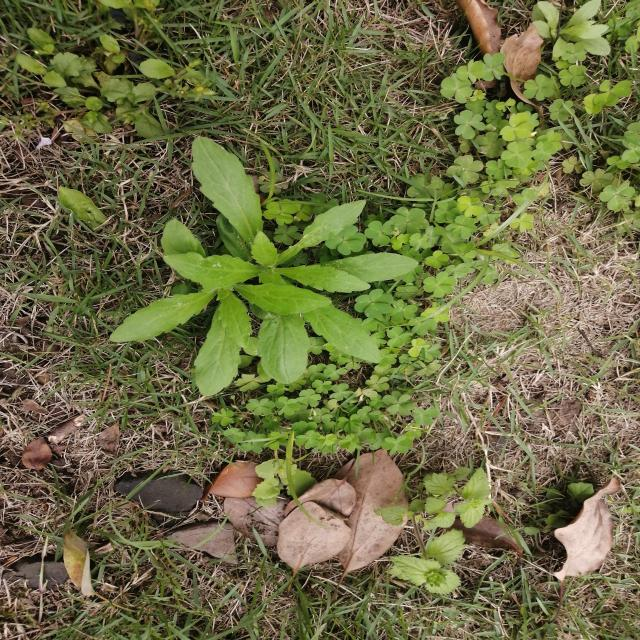horseweed: (138, 167, 408, 395)
